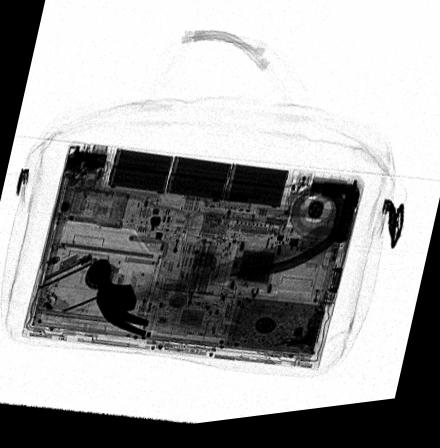Hammer: (84, 233, 331, 341)
